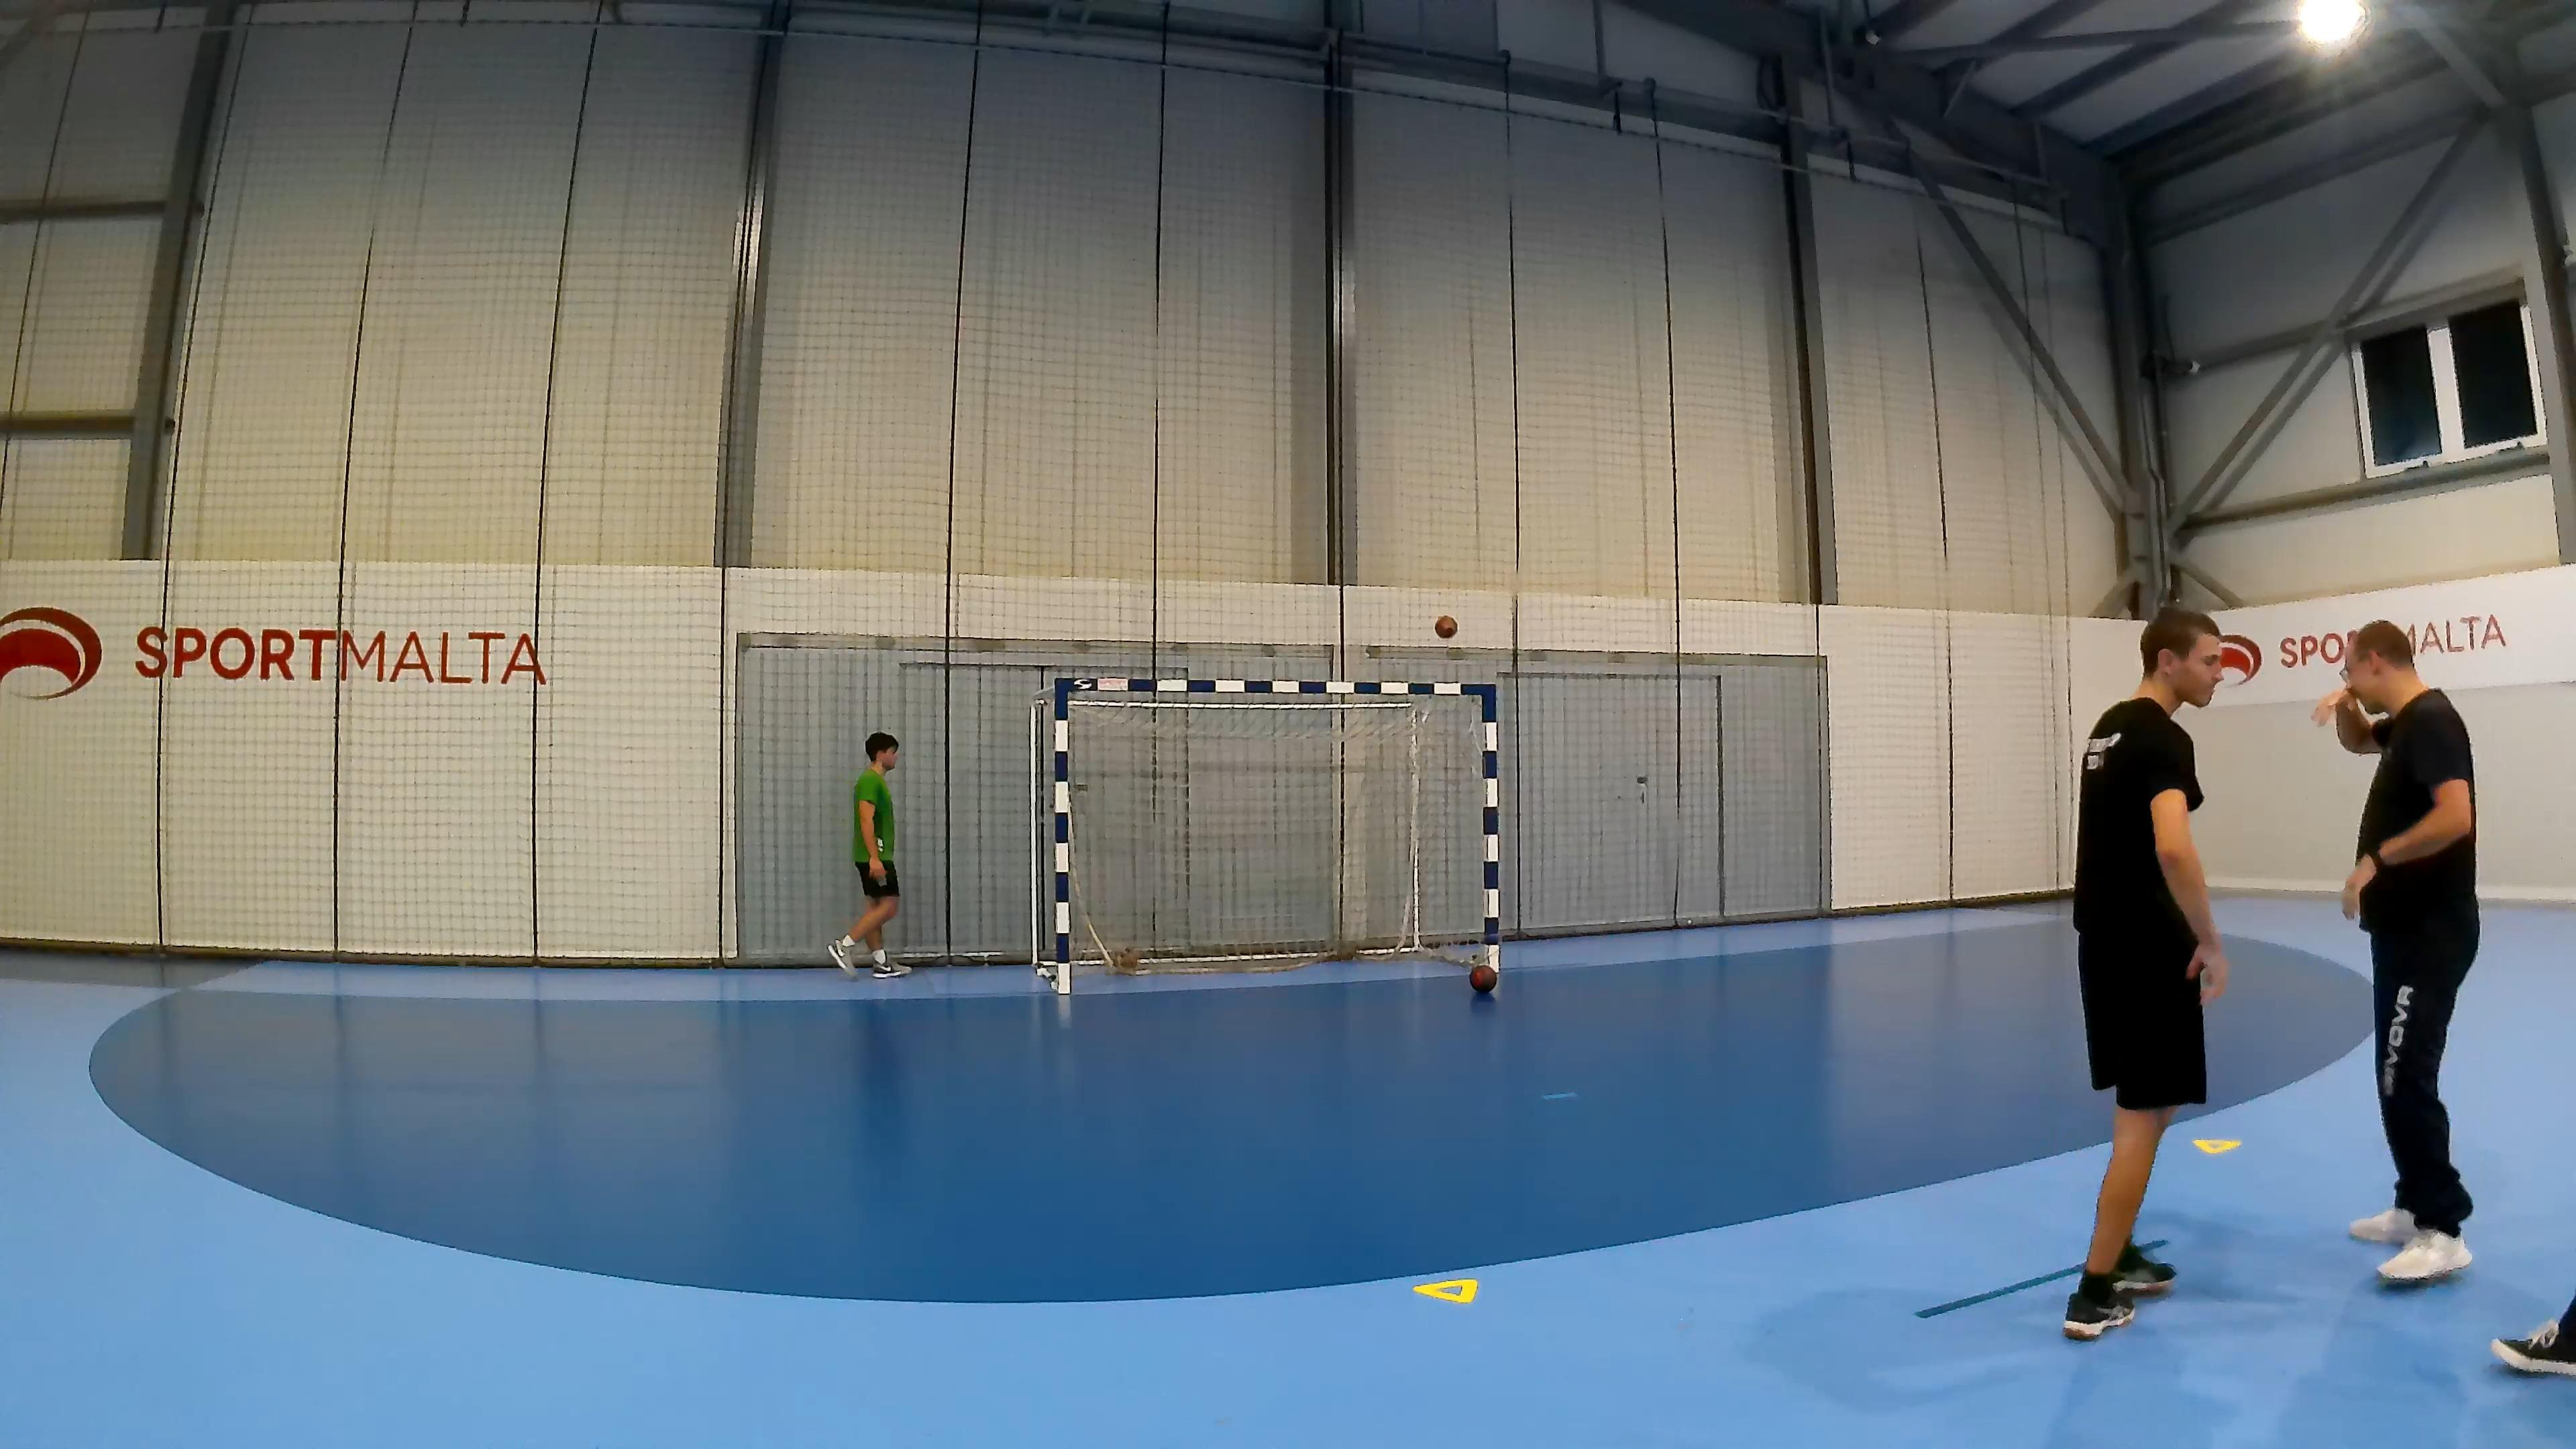handball: (1468, 961, 1497, 993), (1433, 609, 1460, 639)
